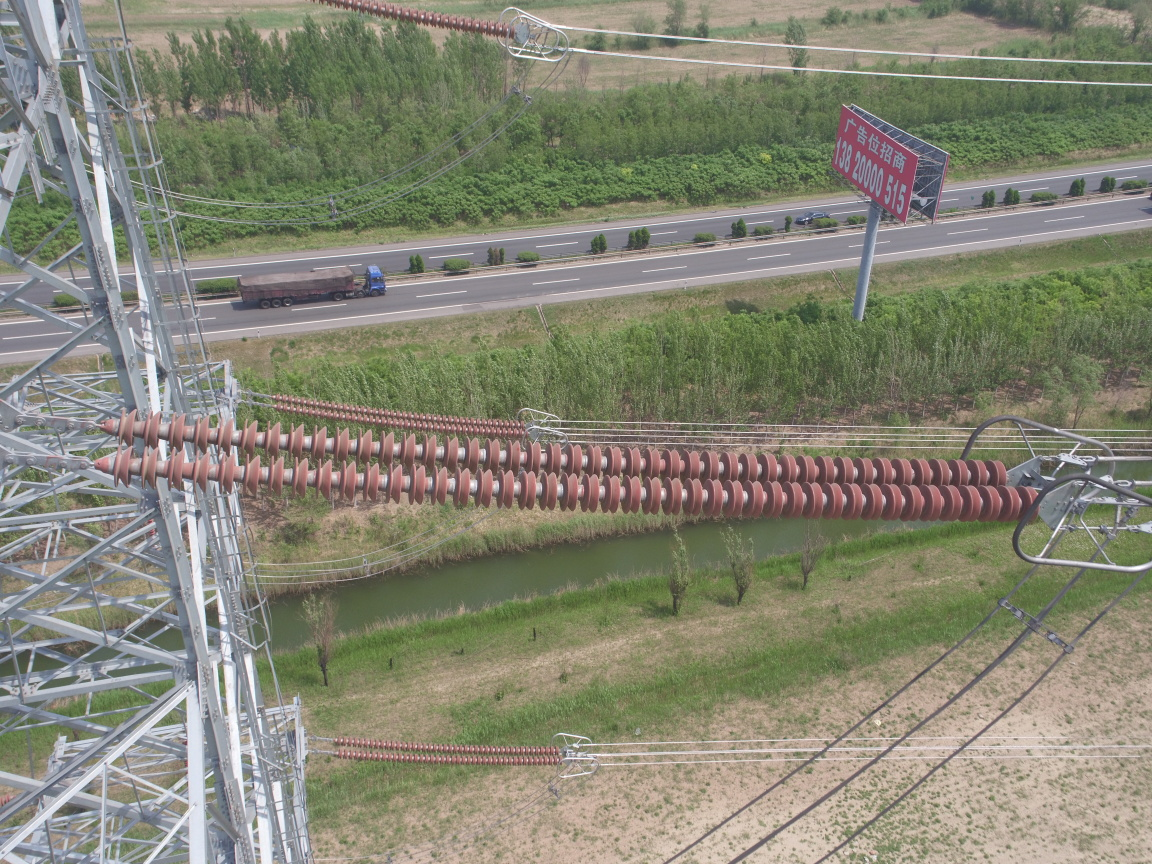insulator: (55, 405, 1056, 525), (254, 389, 537, 437), (297, 1, 522, 43), (320, 734, 572, 767)
